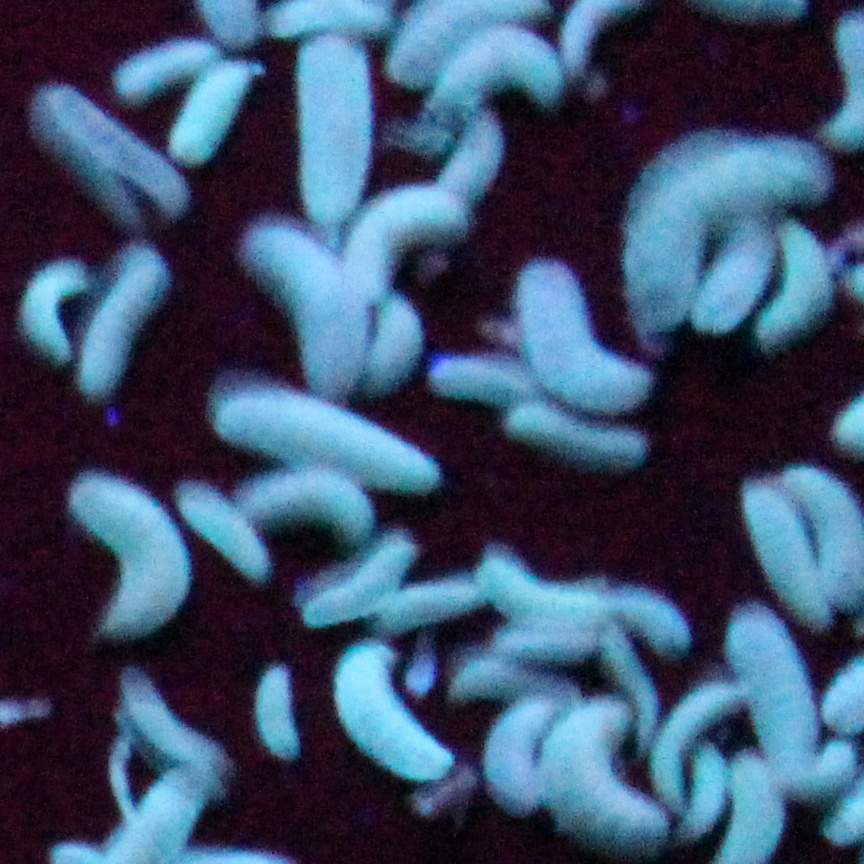larve: (632, 129, 827, 329), (63, 460, 194, 649), (215, 383, 444, 481), (34, 93, 205, 222), (538, 699, 671, 860), (244, 222, 363, 399), (521, 256, 652, 412), (723, 608, 827, 793), (332, 639, 457, 774), (738, 472, 832, 635), (296, 33, 369, 229), (644, 681, 744, 818), (80, 251, 167, 406), (117, 668, 230, 779), (346, 189, 467, 291), (482, 547, 617, 633), (425, 33, 567, 114), (177, 476, 277, 587), (240, 468, 375, 547), (746, 216, 827, 347), (511, 404, 655, 468), (694, 216, 775, 329), (305, 535, 415, 618), (173, 62, 261, 162), (488, 693, 552, 812), (117, 39, 223, 99), (19, 266, 86, 360), (373, 576, 486, 631), (611, 585, 700, 654), (365, 293, 421, 395), (436, 354, 544, 406), (255, 666, 307, 760), (682, 741, 727, 843), (492, 629, 605, 654)
